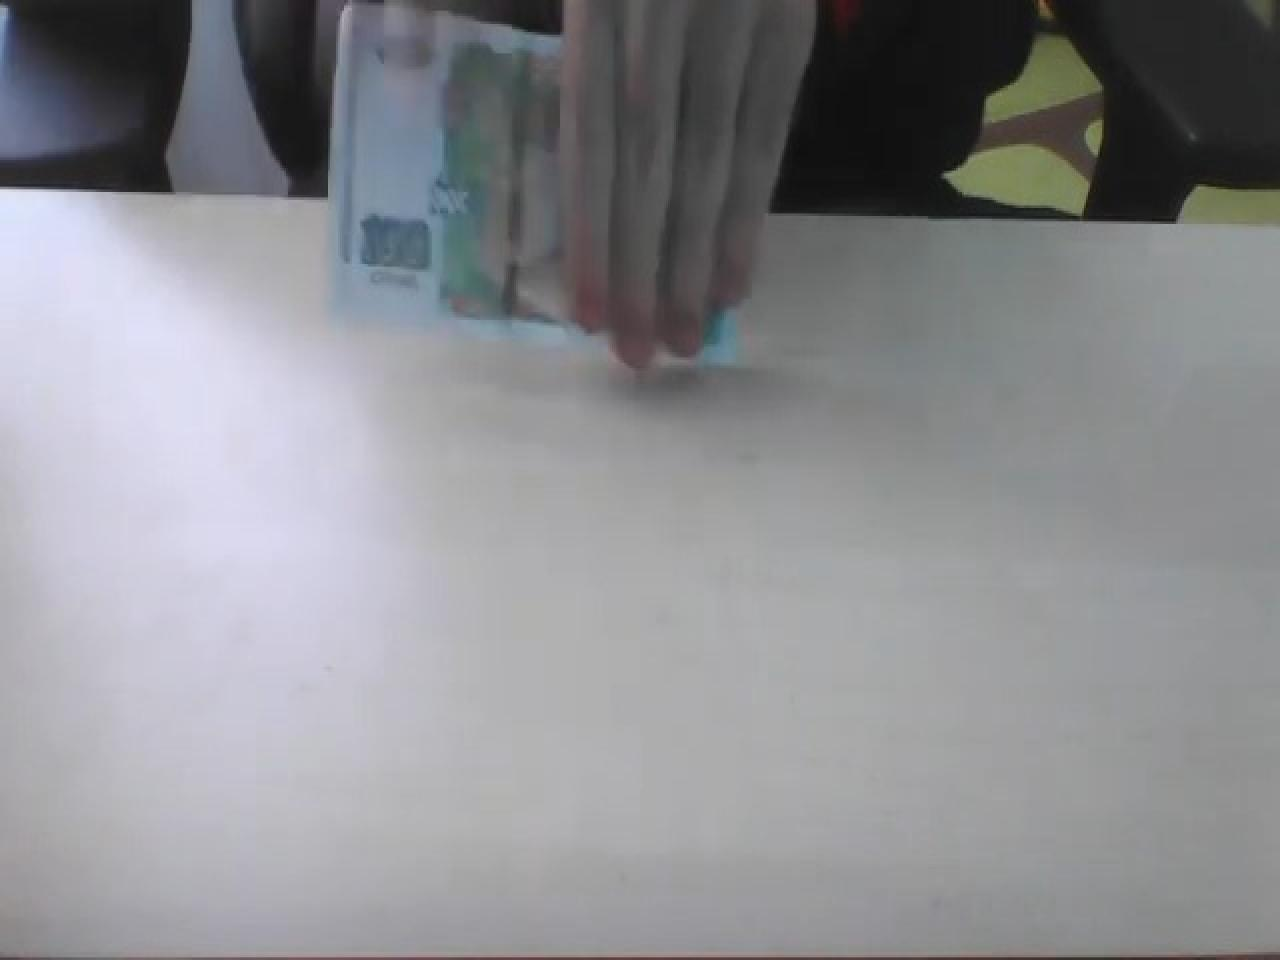100leva: (356, 208, 432, 272)
